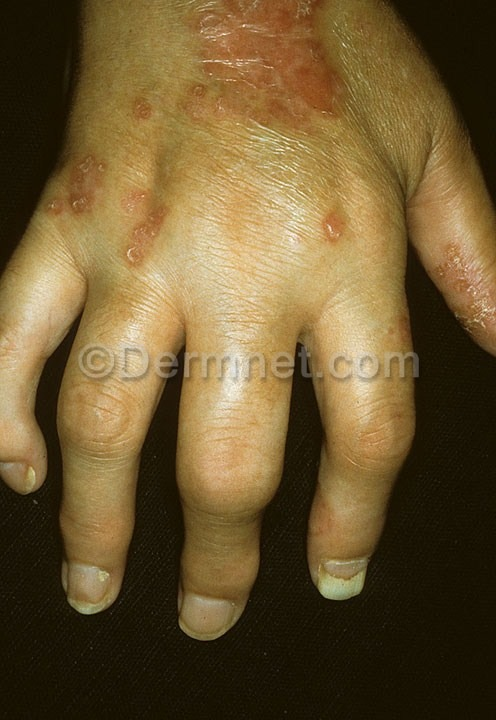Psoriasis: (185, 1, 362, 140), (30, 119, 116, 239), (418, 226, 496, 348), (122, 177, 173, 280), (308, 194, 360, 254)
